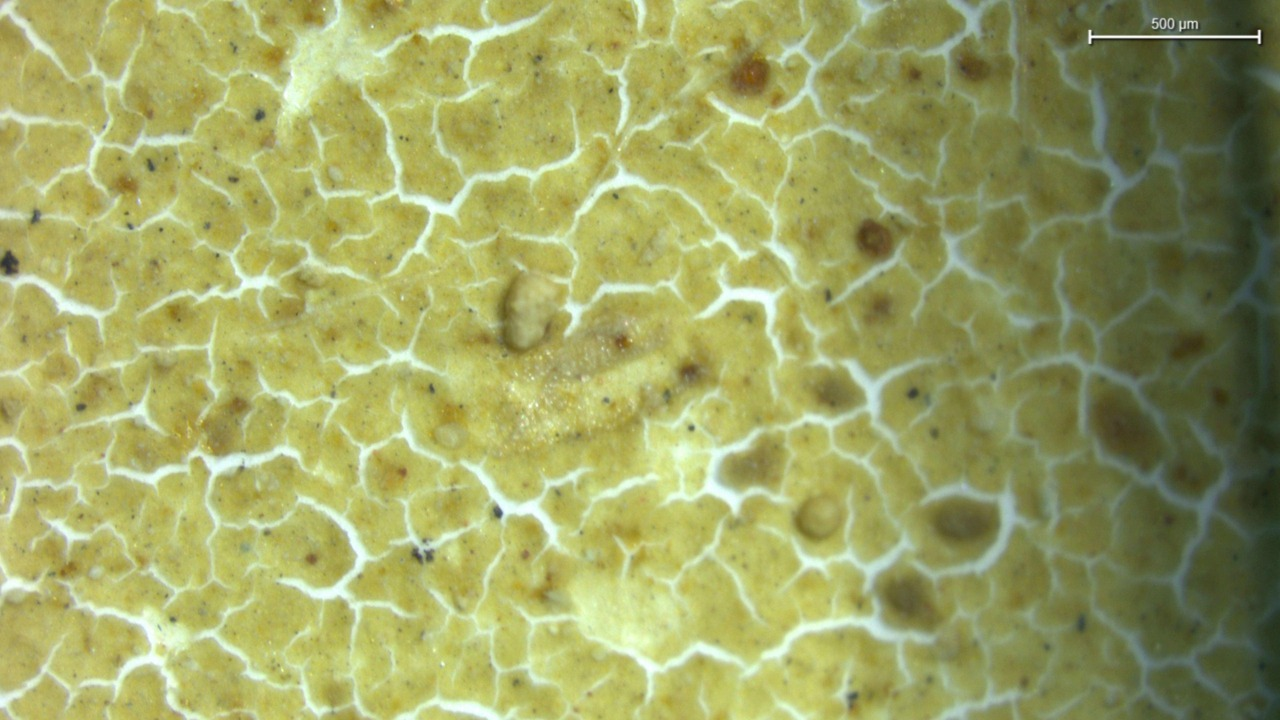microplastic_fragment: (502, 272, 560, 352)
